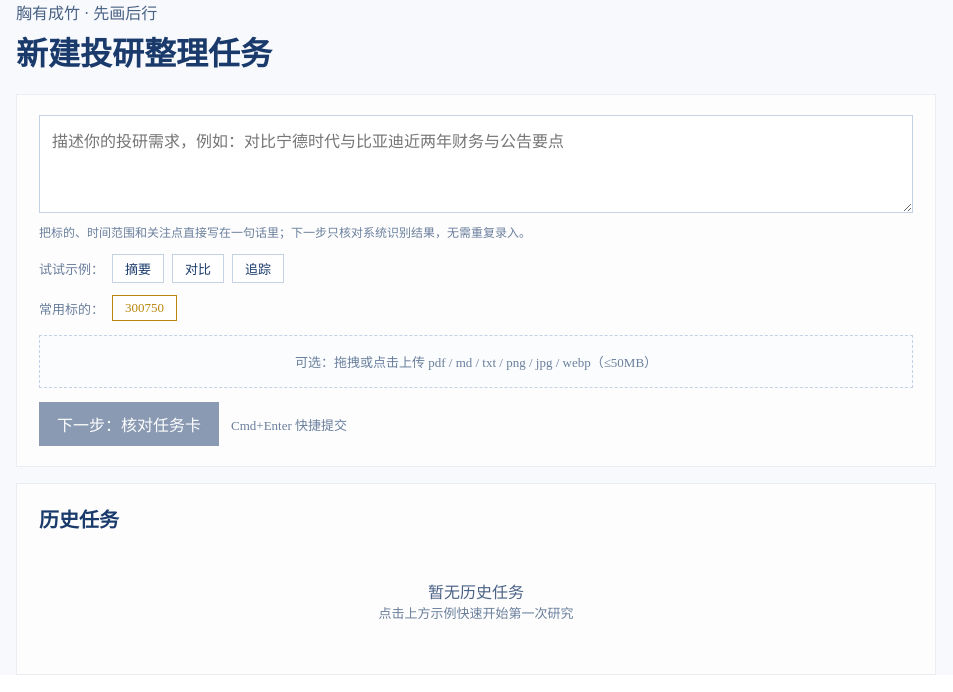
it: Home task intent entry › explains that the next step is review-only and renders string watch symbols
This screenshot has width=953, height=692.
Check: the button "下一步：核对任务卡" is shown, box [39, 402, 219, 446]
Click the button with class "chip" showing "300750". click: (144, 308)
box: [112, 295, 177, 321]
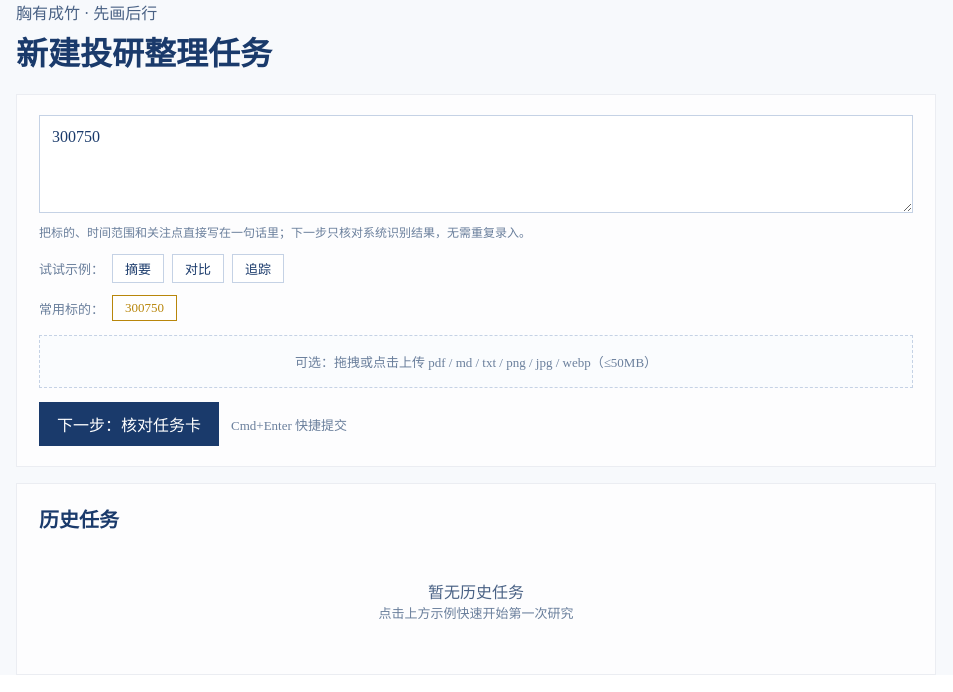
Check: the text box holds "300750", box [39, 115, 913, 213]
